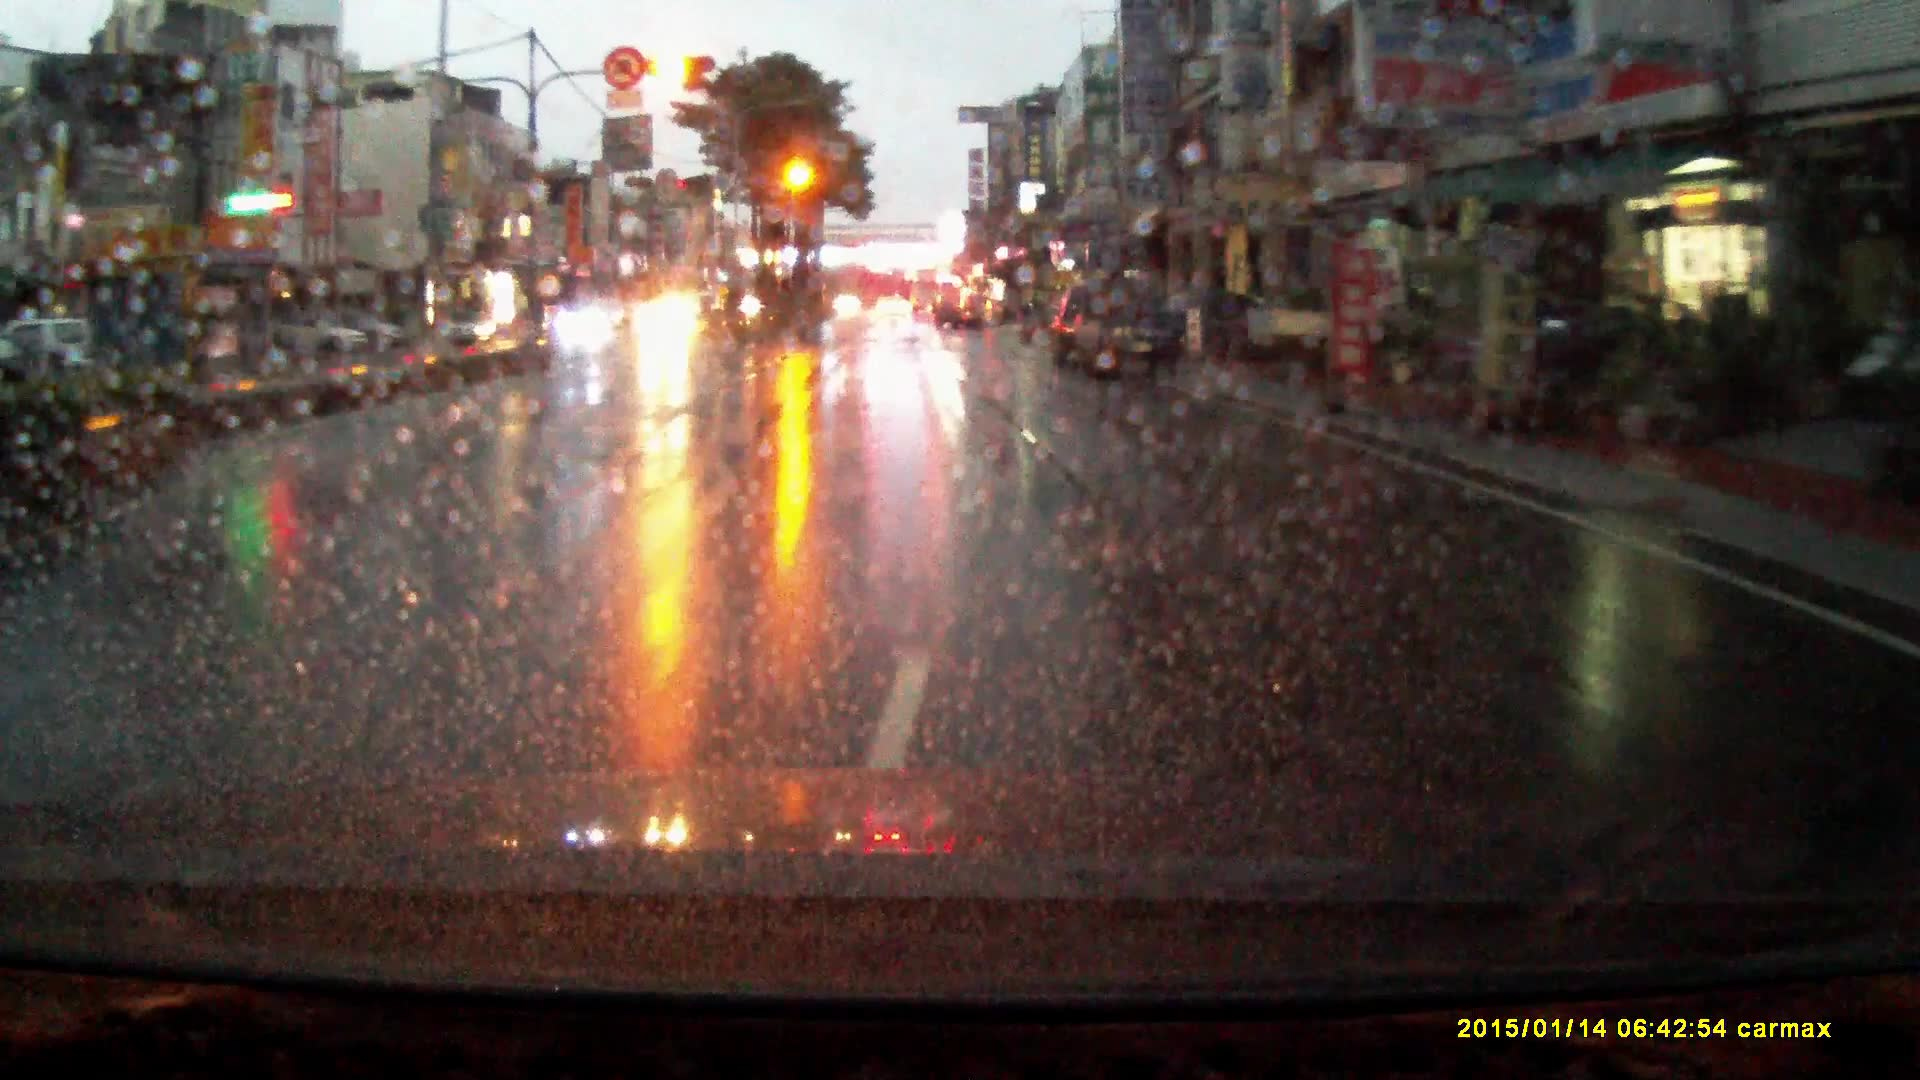vehicle: (1069, 277, 1188, 386), (1246, 310, 1350, 357), (261, 314, 364, 357), (632, 295, 705, 347), (1051, 287, 1087, 369), (936, 287, 996, 332), (559, 305, 618, 345), (343, 318, 410, 353), (439, 309, 498, 347), (911, 270, 944, 315), (877, 298, 913, 320)
